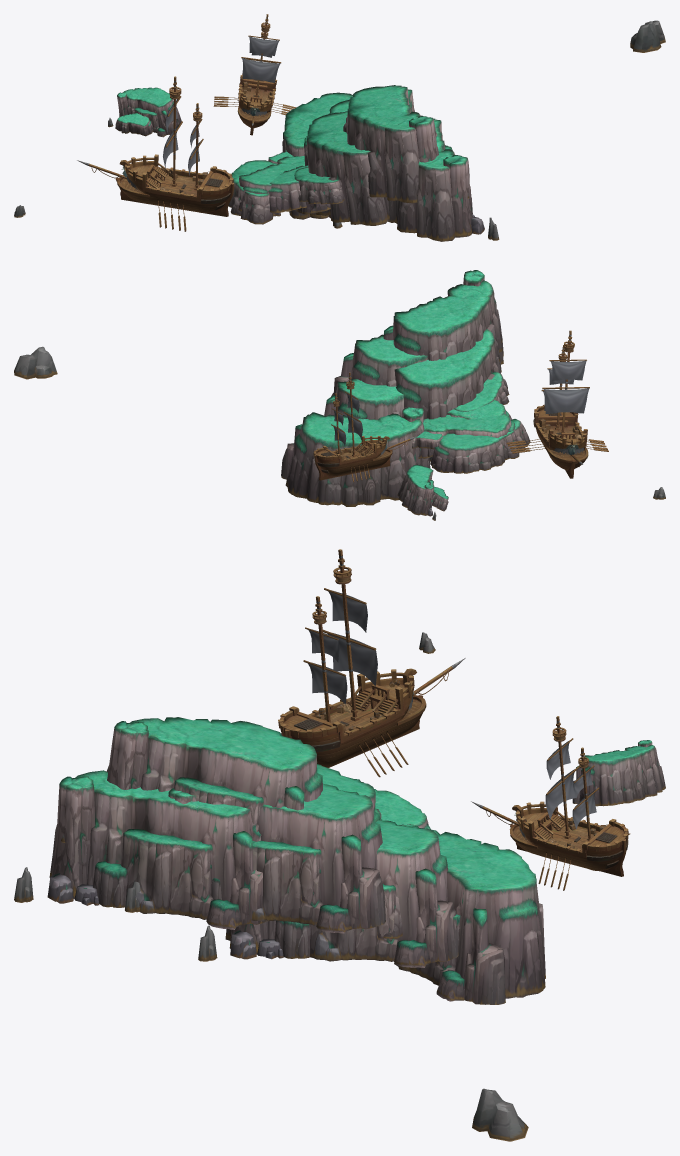
The model's file is boss5_yanshi.fbx.
3 renders of one model, top to bottom at view 1: azimuth 30°, elevation 25°; view 2: azimuth 150°, elevation 25°; view 3: azimuth 270°, elevation 25°, orthographic. The views are drawn at different scales.
Visible parts, largest first — view 1: boss5_yanshi; view 2: boss5_yanshi; view 3: boss5_yanshi.
Part boxes in pixels (box(x1,y1,x2,y2)): boss5_yanshi: box(14, 14, 665, 241); boss5_yanshi: box(14, 270, 665, 520); boss5_yanshi: box(14, 549, 665, 1141).
Bounding box in the file's own units: 23404 × 6217 × 13197.
